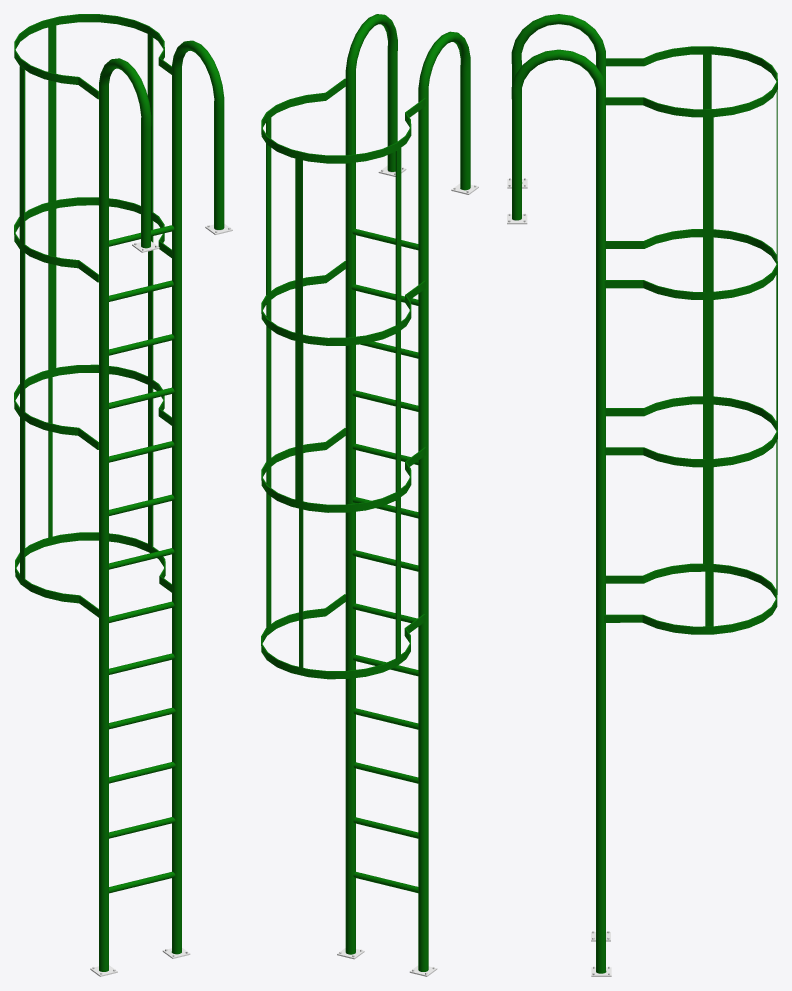
3 views of the same model, side by side, from view 1: azimuth 30°, elevation 25°; view 2: azimuth 150°, elevation 25°; view 3: azimuth 270°, elevation 25° (orthographic).
Parts seen in each view (by area): view 1: Group_001, proteccion_003, proteccion_007, proteccion_005, proteccion_001; view 2: Group_001, proteccion_003, proteccion_007, proteccion_001, proteccion_005; view 3: Group_001, proteccion_003, proteccion_007, proteccion_005, proteccion_001.
Part boxes in pixels (left/top/right/bottom): Group_001: left=19, top=25, right=224, bottom=971; proteccion_003: left=14, top=14, right=171, bottom=99; proteccion_007: left=15, top=532, right=171, bottom=617; proteccion_005: left=14, top=364, right=171, bottom=449; proteccion_001: left=14, top=197, right=171, bottom=282; Group_001: left=266, top=14, right=470, bottom=971; proteccion_003: left=261, top=78, right=425, bottom=163; proteccion_007: left=261, top=594, right=425, bottom=679; proteccion_001: left=261, top=261, right=425, bottom=345; proteccion_005: left=261, top=428, right=425, bottom=512; Group_001: left=511, top=14, right=777, bottom=973; proteccion_003: left=604, top=46, right=777, bottom=117; proteccion_007: left=604, top=563, right=777, bottom=634; proteccion_005: left=604, top=396, right=777, bottom=467; proteccion_001: left=604, top=229, right=777, bottom=299.
Bounding box in the file's own units: 35.35 × 238 × 63.39.
